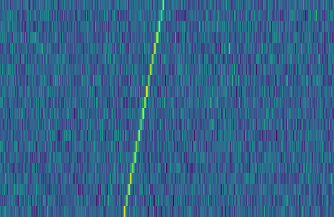signal: (119, 0, 168, 217)
